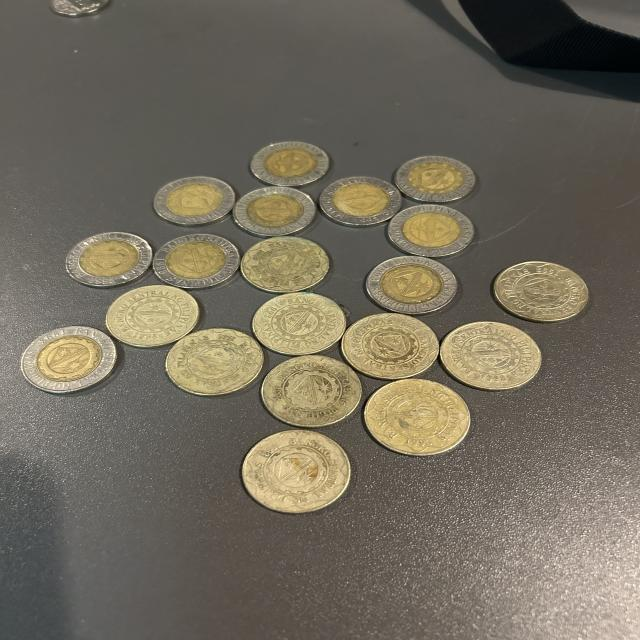10_Old_Back: (22, 325, 118, 395), (366, 255, 460, 315), (152, 234, 240, 289), (321, 176, 402, 229), (388, 204, 472, 255)
5_Old_Back: (438, 322, 543, 391), (248, 291, 344, 354), (492, 260, 589, 320)
